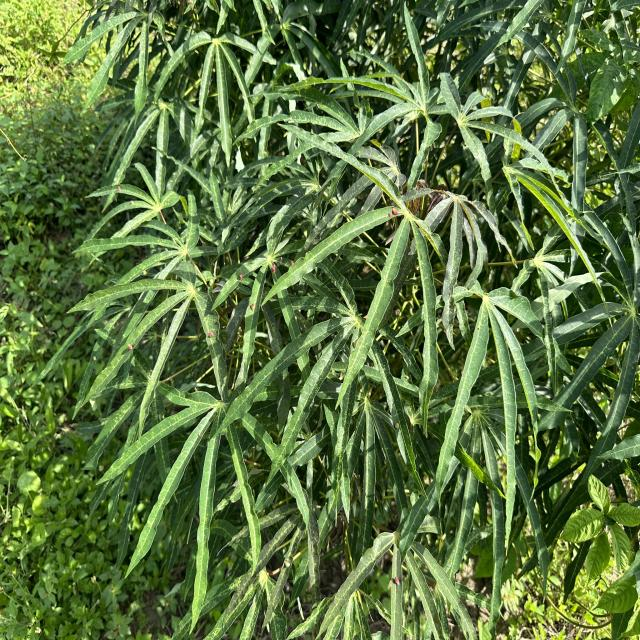Maleza: (7, 431, 109, 638), (0, 7, 84, 246), (578, 469, 640, 573), (585, 536, 640, 634)
Mosca: (386, 572, 407, 594), (119, 337, 141, 356), (384, 202, 404, 222), (263, 257, 281, 274), (243, 296, 259, 315), (203, 328, 220, 345), (231, 268, 246, 283), (389, 419, 405, 433), (111, 178, 125, 194), (126, 197, 137, 207)
